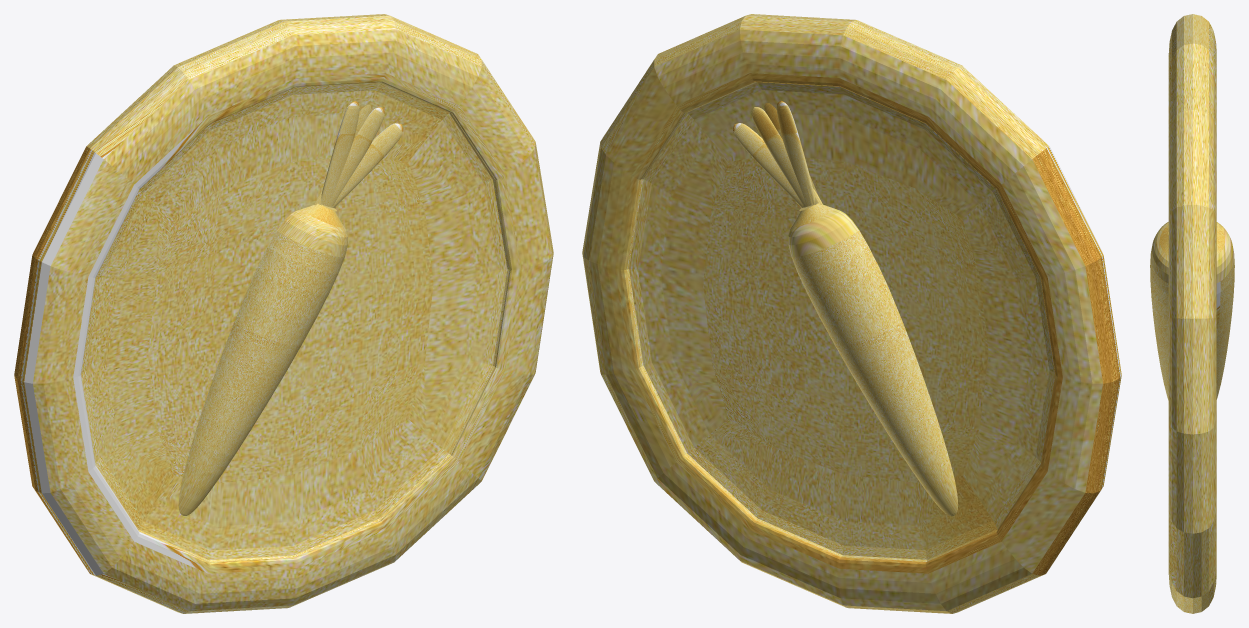
Rendered from MoedaTexturizada.fbx.
3 views of the same model, side by side, from view 1: azimuth 30°, elevation 25°; view 2: azimuth 150°, elevation 25°; view 3: azimuth 270°, elevation 25° (orthographic). The views are drawn at different scales.
Visible parts, largest first — view 1: Cube.002; view 2: Cube.002; view 3: Cube.002.
Boxes of the visible parts, x1,y1,x2,y2 form: Cube.002: [14, 14, 553, 613]; Cube.002: [582, 14, 1121, 613]; Cube.002: [1150, 14, 1234, 613].
Size of the model in its own units: 166 by 174 by 24.76.
